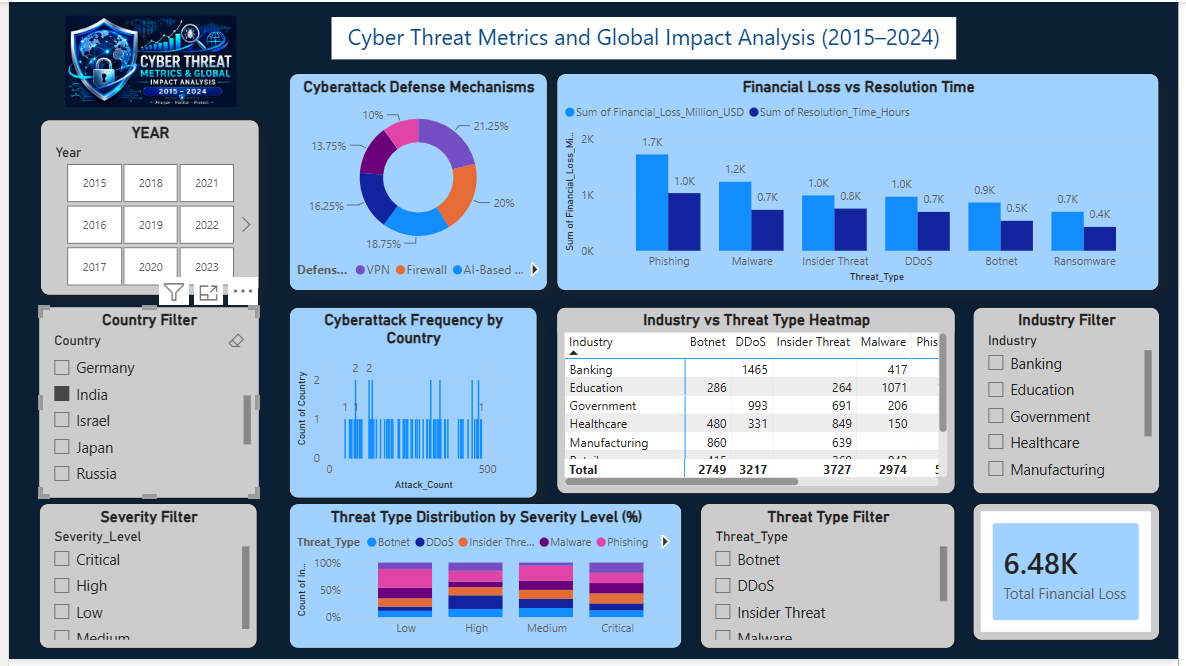

The dashboard page shown, as its layout file describes it:
{"tool":"powerbi","page":{"name":"Page 1","canvas":[1280,720],"ordinal":0},"visuals":[{"type":"cardVisual","fields":{"Data":["Cyber_Threat_Data.Total Financial Loss"]},"box":[1055.1,548.6,204.8,150.2],"z":0},{"type":"donutChart","title":"Cyberattack Defense Mechanisms","fields":{"Category":["Cyber_Threat_Data.Defense_Mechanism"],"Y":["CountNonNull(Cyber_Threat_Data.Incident_ID)"]},"box":[306.6,78.1,283.4,238.6],"z":1000},{"type":"clusteredColumnChart","title":"Financial Loss vs Resolution Time","fields":{"Category":["Cyber_Threat_Data.Threat_Type"],"Y":["Sum(Cyber_Threat_Data.Financial_Loss_Million_USD)","Sum(Cyber_Threat_Data.Resolution_Time_Hours)"]},"box":[599.5,78.2,660.4,238.3],"z":2000},{"type":"clusteredColumnChart","title":"Cyberattack Frequency by Country","fields":{"Y":["CountNonNull(Cyber_Threat_Data.Country)"],"Category":["Cyber_Threat_Data.Attack_Count"]},"box":[306.6,333.9,271.8,209.8],"z":3000},{"type":"pivotTable","title":"Industry vs Threat Type Heatmap","fields":{"Rows":["Cyber_Threat_Data.Industry"],"Columns":["Cyber_Threat_Data.Threat_Type"],"Values":["Sum(Cyber_Threat_Data.Attack_Count)"]},"box":[599.5,333.9,436.9,204.8],"z":4000},{"type":"hundredPercentStackedColumnChart","title":"Threat Type Distribution by Severity Level (%)","fields":{"Category":["Cyber_Threat_Data.Severity_Level"],"Y":["CountNonNull(Cyber_Threat_Data.Incident_ID)"],"Series":["Cyber_Threat_Data.Threat_Type"]},"box":[306.6,548.6,430.7,158.9],"z":5000},{"type":"slicer","title":"Country Filter","fields":{"Values":["Cyber_Threat_Data.Country"]},"box":[33.5,333.9,240.8,209.8],"z":6000},{"type":"slicer","title":"Industry Filter","fields":{"Values":["Cyber_Threat_Data.Industry"]},"box":[1055.1,333.9,204.8,204.8],"z":7000},{"type":"slicer","title":"Threat Type Filter","fields":{"Values":["Cyber_Threat_Data.Threat_Type"]},"box":[757.2,548.6,279.3,158.9],"z":8000},{"type":"slicer","title":"Severity Filter","fields":{"Values":["Cyber_Threat_Data.Severity_Level"]},"box":[33.5,548.6,239.6,158.9],"z":9000},{"type":"textbox","box":[352.8,15.9,684,46.3],"z":10000},{"type":"slicer","title":"YEAR","fields":{"Values":["Cyber_Threat_Data.Year"]},"box":[33.8,129.1,240.1,193],"z":11000},{"type":"image","box":[61.5,15.7,187,100.1],"z":12000}]}

Visuals, with their boxes in screenshot pixels (x1, y1, x2, y2), scaled from the page's 1280x720 canvas onto the 1186x666 screenshot:
cardVisual - Cyber_Threat_Data.Total Financial Loss: [x1=978, y1=507, x2=1167, y2=646]
"Cyberattack Defense Mechanisms" donutChart: [x1=284, y1=72, x2=547, y2=293]
"Financial Loss vs Resolution Time" clusteredColumnChart: [x1=555, y1=72, x2=1167, y2=293]
"Cyberattack Frequency by Country" clusteredColumnChart: [x1=284, y1=309, x2=536, y2=503]
"Industry vs Threat Type Heatmap" pivotTable: [x1=555, y1=309, x2=960, y2=498]
"Threat Type Distribution by Severity Level (%)" hundredPercentStackedColumnChart: [x1=284, y1=507, x2=683, y2=654]
"Country Filter" slicer: [x1=31, y1=309, x2=254, y2=503]
"Industry Filter" slicer: [x1=978, y1=309, x2=1167, y2=498]
"Threat Type Filter" slicer: [x1=702, y1=507, x2=960, y2=654]
"Severity Filter" slicer: [x1=31, y1=507, x2=253, y2=654]
textbox: [x1=327, y1=15, x2=961, y2=58]
"YEAR" slicer: [x1=31, y1=119, x2=254, y2=298]
image: [x1=57, y1=15, x2=230, y2=107]
